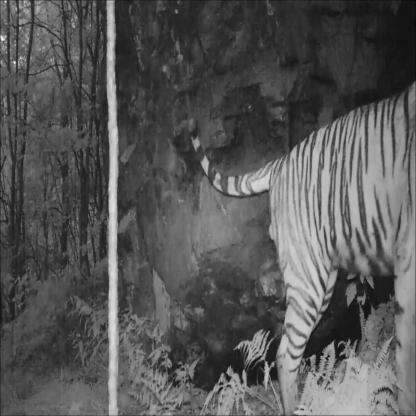Tiger: (188, 69, 416, 404)
